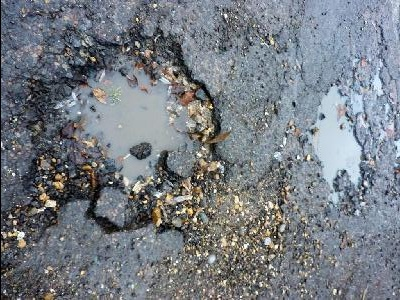pothole: (14, 24, 219, 246), (309, 78, 373, 216)
